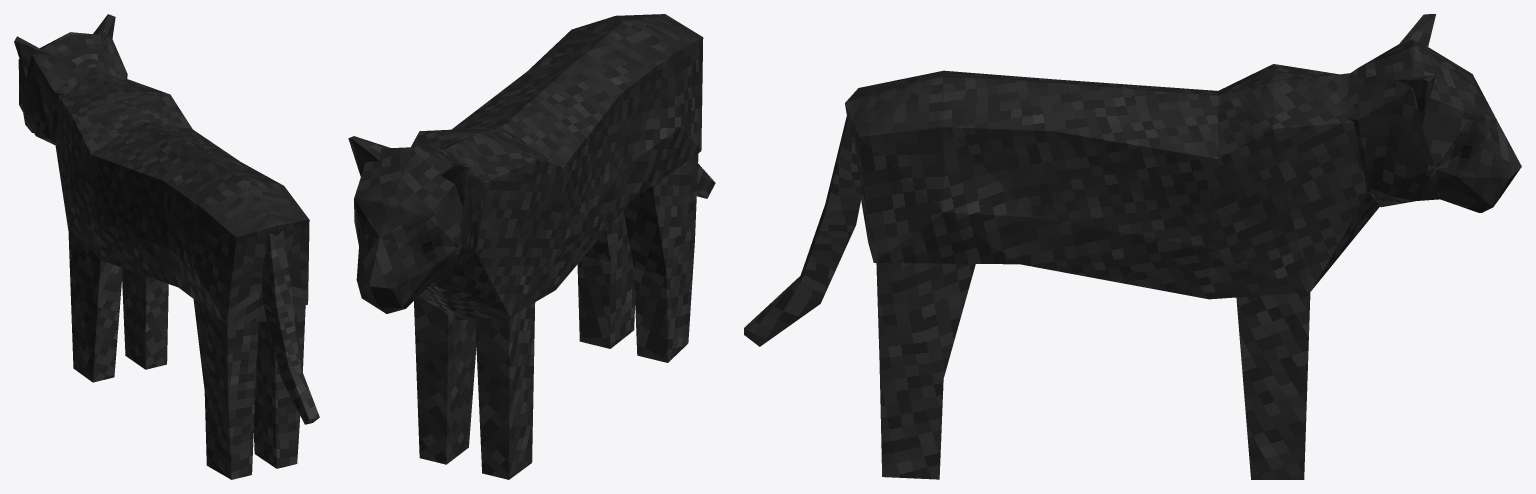
File: Jaguar_Jaguar.glb
3 renders of one model, left to right at view 1: azimuth 30°, elevation 25°; view 2: azimuth 150°, elevation 25°; view 3: azimuth 270°, elevation 25°, orthographic. The views are drawn at different scales.
Visible parts, largest first — view 1: Body, Leg3, Head, Leg1, Leg4, Leg2; view 2: Body, Head, Leg3, Leg1, Leg2, Leg4; view 3: Body, Head, Leg4, Leg2.
Part boxes in pixels (box(x1,y1,x2,y2)): Body: box(55, 69, 319, 424); Leg3: box(193, 299, 258, 479); Head: box(14, 14, 127, 144); Leg1: box(68, 230, 122, 382); Leg4: box(253, 305, 305, 468); Leg2: box(122, 268, 168, 369); Body: box(411, 14, 715, 320); Head: box(348, 136, 484, 313); Leg3: box(623, 153, 698, 362); Leg1: box(475, 302, 535, 479); Leg2: box(414, 296, 476, 464); Leg4: box(577, 211, 635, 348); Body: box(744, 64, 1379, 346); Head: box(1346, 14, 1521, 212); Leg4: box(876, 263, 975, 479); Leg2: box(1236, 292, 1310, 479).
Bounding box in the file's own units: 0.3733 × 1.05 × 1.8.
1 material, 1 textured.
